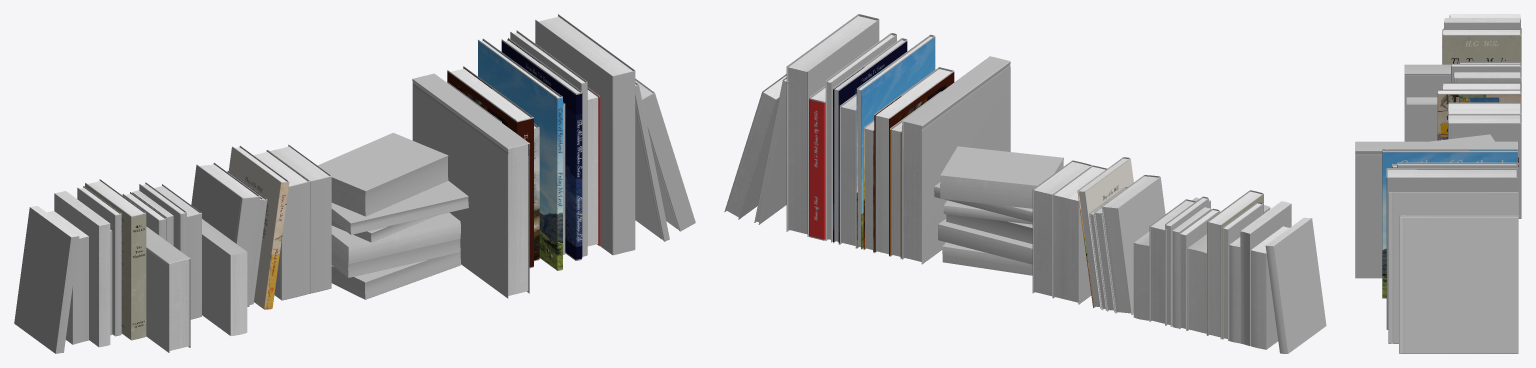
3 views of the same model, side by side, from view 1: azimuth 30°, elevation 25°; view 2: azimuth 150°, elevation 25°; view 3: azimuth 270°, elevation 25° (orthographic). The views are drawn at different scales.
Parts seen in each view (by area): view 1: EvB1Lbooks1.Shape, EvB1Lbooks2.Shape, EvB1_Hbacks1.Shape, EvB1_Pbacks2.Shape, EvB1_Pbacks1.Shape, EvB1_Hbacks2.Shape; view 2: EvB1Lbooks1.Shape, EvB1Lbooks2.Shape, EvB1_Pbacks1.Shape, EvB1_Hbacks1.Shape, EvB1_Hbacks2.Shape, EvB1_Pbacks2.Shape; view 3: EvB1Lbooks2.Shape, EvB1Lbooks1.Shape, EvB1_Hbacks1.Shape, EvB1_Hbacks2.Shape, EvB1_Pbacks1.Shape, EvB1_Pbacks2.Shape.
Part boxes in pixels (<box>): EvB1Lbooks1.Shape: <box>412,30,600,298</box>; EvB1Lbooks2.Shape: <box>447,14,695,267</box>; EvB1_Hbacks1.Shape: <box>85,146,309,352</box>; EvB1_Pbacks2.Shape: <box>318,132,468,299</box>; EvB1_Pbacks1.Shape: <box>14,190,247,353</box>; EvB1_Hbacks2.Shape: <box>77,144,331,336</box>; EvB1Lbooks1.Shape: <box>809,33,1010,264</box>; EvB1Lbooks2.Shape: <box>724,14,954,256</box>; EvB1_Pbacks1.Shape: <box>1133,197,1326,353</box>; EvB1_Hbacks1.Shape: <box>1053,157,1270,338</box>; EvB1_Hbacks2.Shape: <box>1032,160,1263,340</box>; EvB1_Pbacks2.Shape: <box>934,146,1063,275</box>; EvB1Lbooks2.Shape: <box>1386,156,1518,353</box>; EvB1Lbooks1.Shape: <box>1355,141,1517,298</box>; EvB1_Hbacks1.Shape: <box>1404,28,1521,141</box>; EvB1_Hbacks2.Shape: <box>1442,28,1521,218</box>; EvB1_Pbacks1.Shape: <box>1406,14,1520,141</box>; EvB1_Pbacks2.Shape: <box>1430,134,1494,141</box>.
Size of the model in its own units: 1.11 by 0.3102 by 0.3066.
